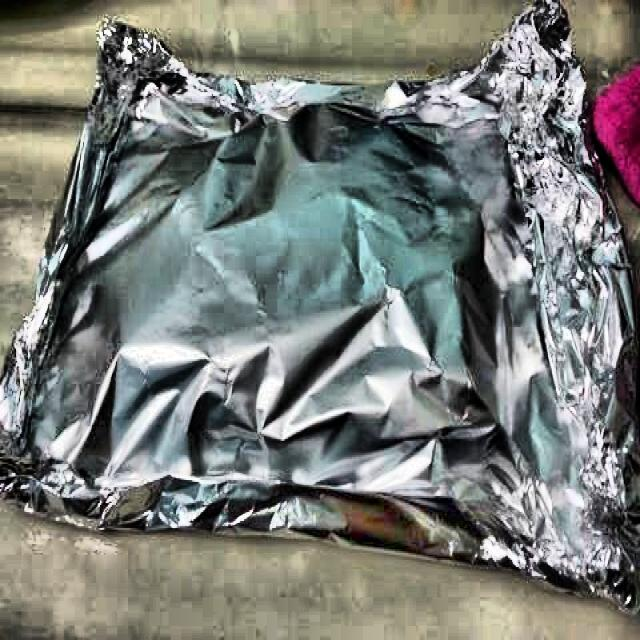Foil: (0, 0, 640, 618)
